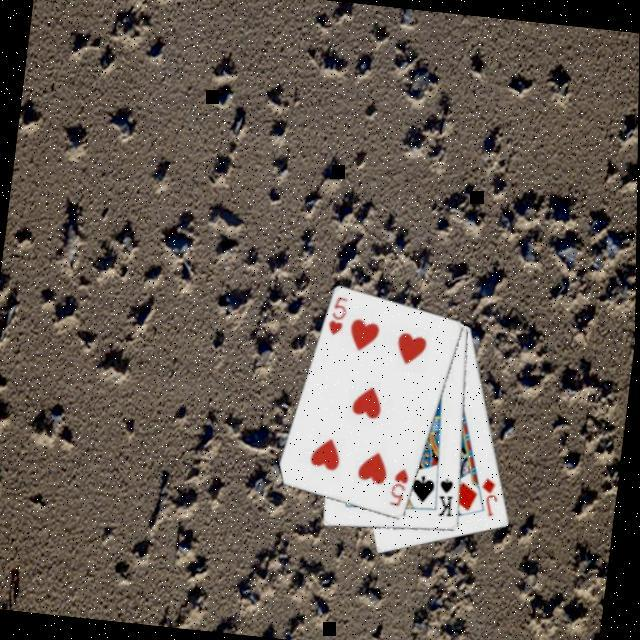5H: (385, 462, 412, 508), (323, 291, 350, 337)
JD: (474, 472, 503, 518)
KS: (433, 472, 459, 518)
